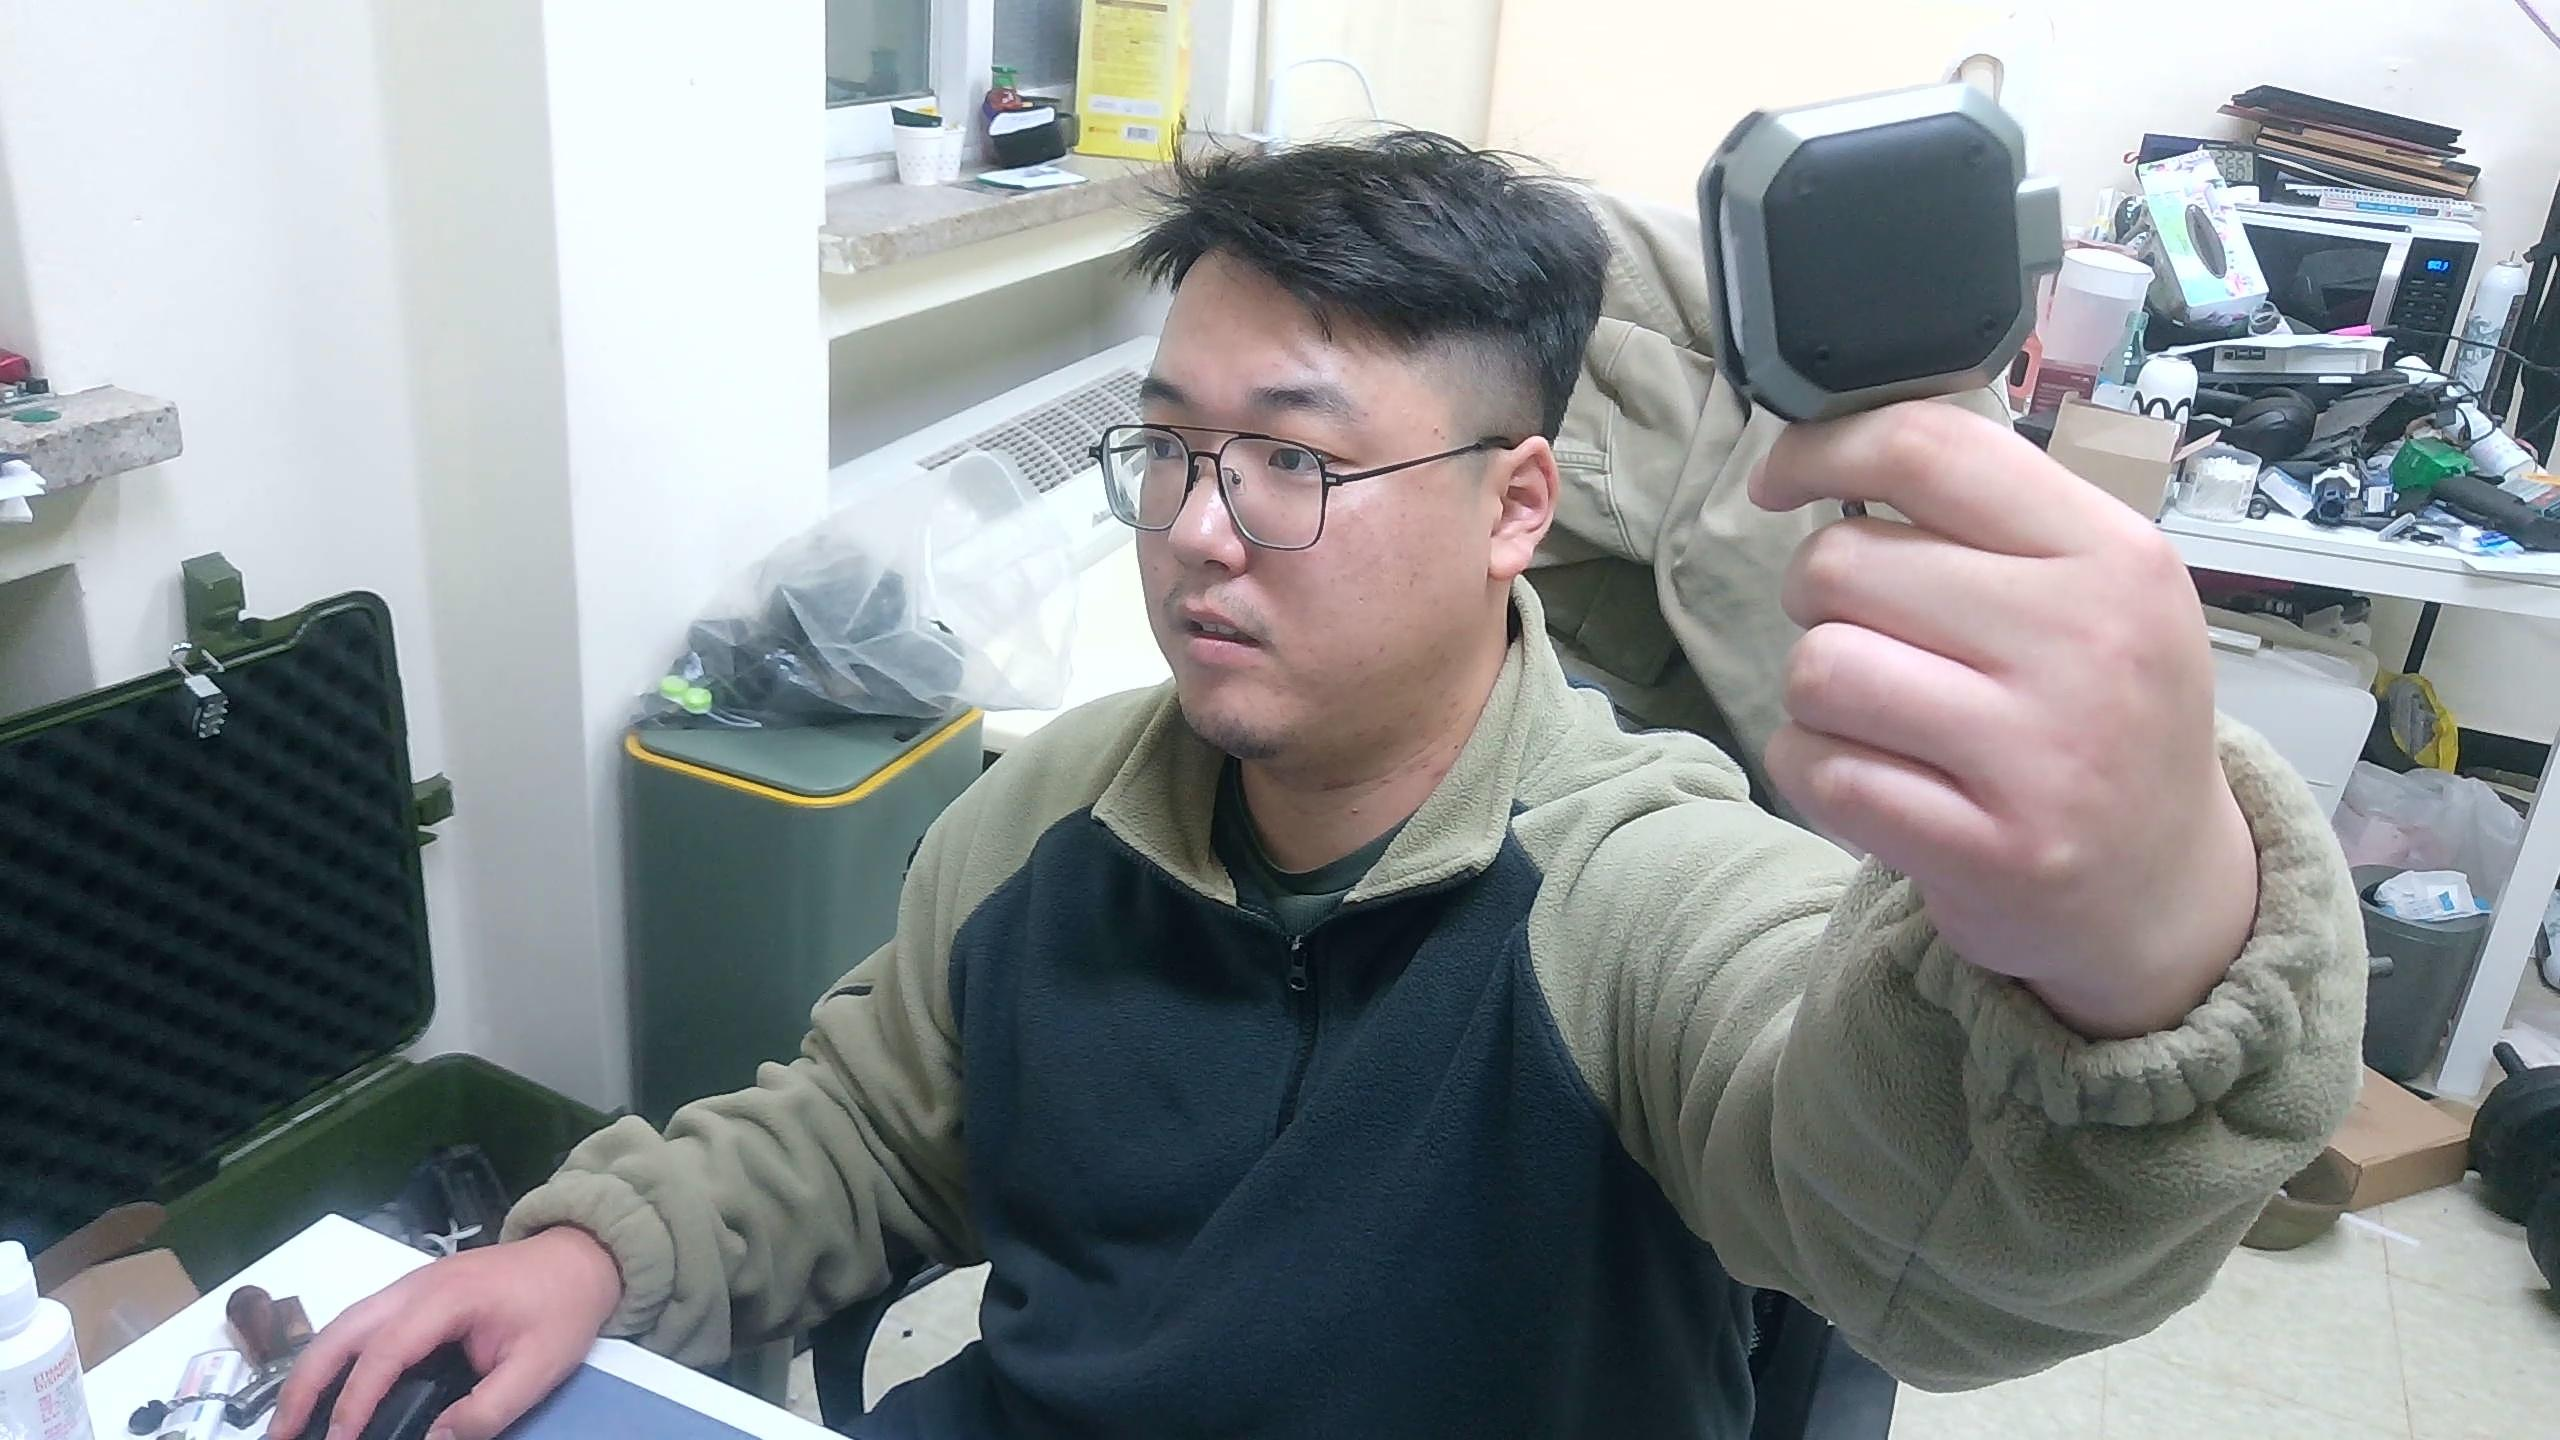blue_pliers: (1693, 55, 2068, 429)
